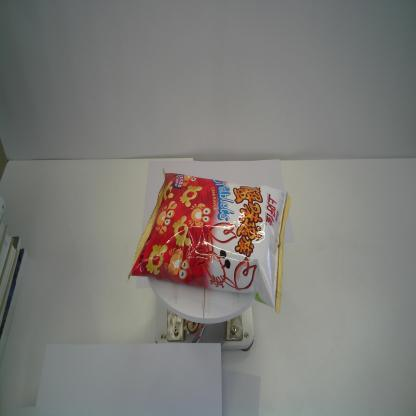Puffed Food: (128, 166, 293, 314)
